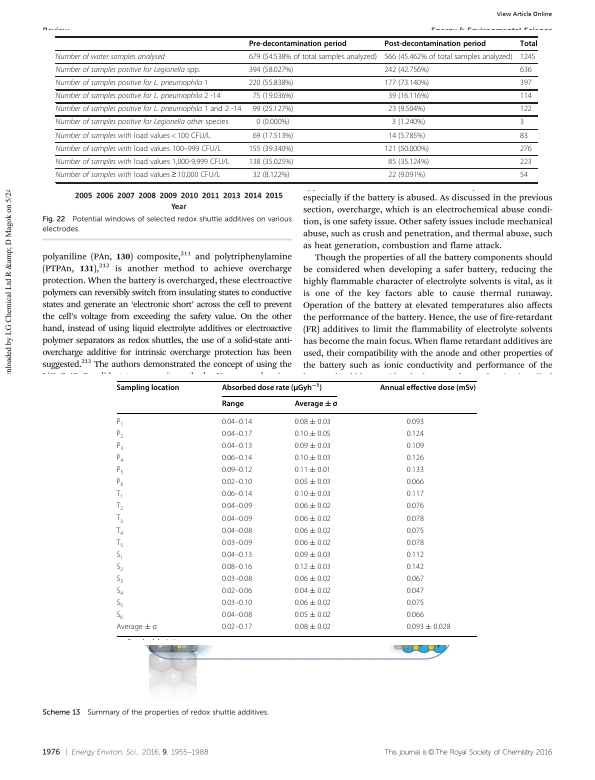borderless: (115, 379, 477, 636), (55, 35, 537, 182)
cell: (55, 157, 231, 167), (55, 105, 242, 114), (55, 144, 222, 154), (55, 91, 221, 101), (55, 170, 221, 180), (55, 118, 229, 127), (55, 78, 209, 88), (55, 65, 201, 75), (55, 131, 211, 140), (248, 52, 378, 62), (383, 52, 513, 62), (221, 382, 323, 393), (55, 52, 166, 62), (379, 383, 477, 393), (383, 39, 487, 48), (248, 39, 347, 48), (116, 383, 180, 393), (383, 65, 430, 75), (383, 78, 430, 88), (383, 144, 430, 154), (248, 65, 294, 75), (248, 78, 294, 88), (248, 144, 294, 154), (248, 157, 294, 167), (294, 399, 338, 409), (387, 91, 430, 101), (387, 157, 430, 167), (252, 91, 294, 101), (406, 623, 452, 632), (387, 170, 426, 180), (115, 623, 158, 632), (294, 417, 332, 427), (294, 429, 332, 439), (294, 538, 332, 548), (294, 550, 332, 560), (252, 170, 290, 180), (252, 105, 294, 114), (252, 131, 294, 140), (387, 105, 426, 114), (387, 131, 426, 140), (294, 442, 332, 451), (294, 454, 332, 463), (294, 466, 332, 475), (294, 478, 332, 487), (294, 490, 332, 499), (294, 502, 332, 511), (294, 514, 332, 523), (294, 526, 332, 535), (294, 563, 332, 572), (294, 575, 332, 584), (294, 587, 332, 596), (294, 599, 332, 608), (294, 611, 332, 620), (294, 623, 332, 632), (221, 417, 253, 427), (221, 429, 253, 439), (221, 538, 253, 548), (221, 550, 253, 560), (255, 118, 290, 127), (391, 118, 426, 127), (221, 442, 253, 451), (221, 454, 253, 463), (221, 466, 253, 475), (221, 478, 253, 487), (221, 490, 253, 499), (221, 502, 253, 511), (221, 514, 253, 523), (221, 526, 253, 535), (221, 563, 253, 572), (221, 575, 253, 584), (221, 587, 253, 596), (221, 599, 253, 608), (221, 611, 253, 620), (221, 623, 253, 632), (221, 399, 245, 409), (406, 417, 425, 427), (406, 429, 425, 439), (406, 538, 425, 548), (406, 550, 425, 560), (406, 442, 425, 451), (406, 454, 425, 463), (406, 466, 425, 475), (406, 478, 425, 487), (406, 490, 425, 499), (406, 502, 425, 511), (406, 514, 425, 523), (406, 526, 425, 535), (406, 563, 425, 572), (406, 575, 425, 584), (406, 587, 425, 596), (406, 599, 425, 608), (406, 611, 425, 620), (519, 39, 538, 48), (519, 52, 536, 62), (519, 65, 533, 75), (519, 78, 533, 88), (519, 91, 533, 101), (519, 144, 533, 154), (519, 157, 533, 167), (519, 105, 533, 114), (519, 170, 529, 180), (115, 490, 124, 501), (115, 502, 124, 513), (115, 514, 124, 525), (115, 526, 124, 537), (115, 538, 124, 549), (115, 550, 124, 561), (115, 599, 124, 610), (115, 611, 124, 622), (115, 563, 124, 573), (115, 575, 124, 585), (115, 587, 124, 597), (519, 131, 529, 140), (116, 417, 124, 428), (116, 429, 124, 440), (116, 478, 124, 489), (116, 442, 124, 452), (116, 454, 124, 464), (116, 466, 124, 476), (519, 118, 525, 127)
